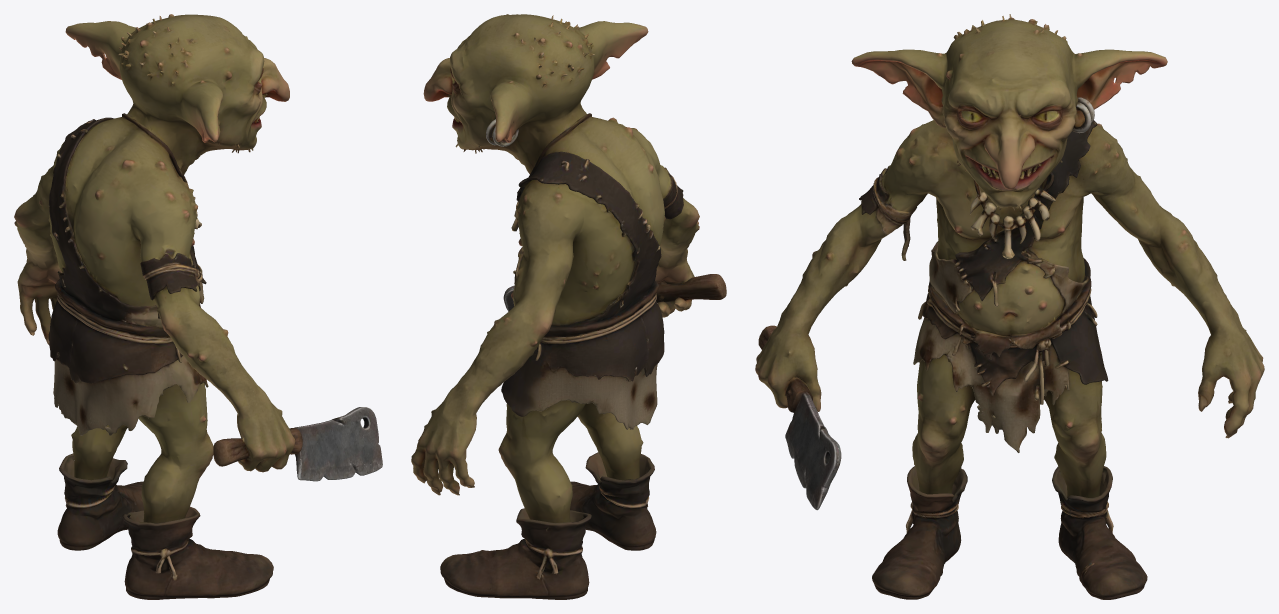
Rendered from goblin-original.glb.
The picture shows the model from 3 angles, left to right: view 1: azimuth 30°, elevation 25°; view 2: azimuth 150°, elevation 25°; view 3: azimuth 270°, elevation 25°; orthographic projection. The views are drawn at different scales.
Parts seen in each view (by area): view 1: tripo_node_a7d08821-e4ef-4fce-bf6e-c9b9d0b46511; view 2: tripo_node_a7d08821-e4ef-4fce-bf6e-c9b9d0b46511; view 3: tripo_node_a7d08821-e4ef-4fce-bf6e-c9b9d0b46511.
Boxes of the visible parts, x1,y1,x2,y2 form: tripo_node_a7d08821-e4ef-4fce-bf6e-c9b9d0b46511: (14, 14, 382, 599); tripo_node_a7d08821-e4ef-4fce-bf6e-c9b9d0b46511: (411, 14, 726, 599); tripo_node_a7d08821-e4ef-4fce-bf6e-c9b9d0b46511: (755, 14, 1264, 599).
Size of the model in its own units: 0.4499 by 1 by 0.8222.
Materials: 1 (1 with a texture image).
